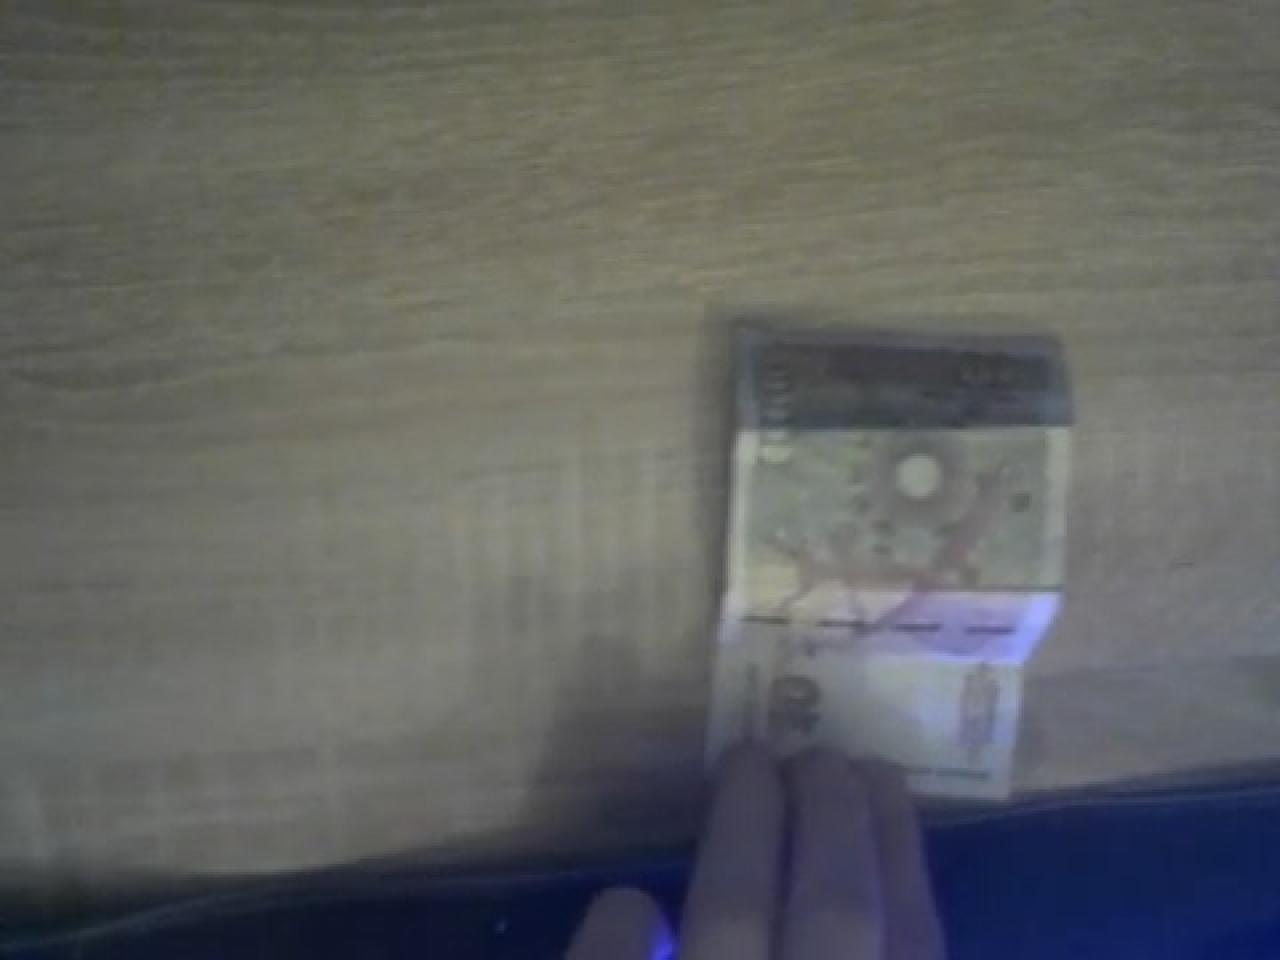10leva: (723, 323, 1077, 770)
